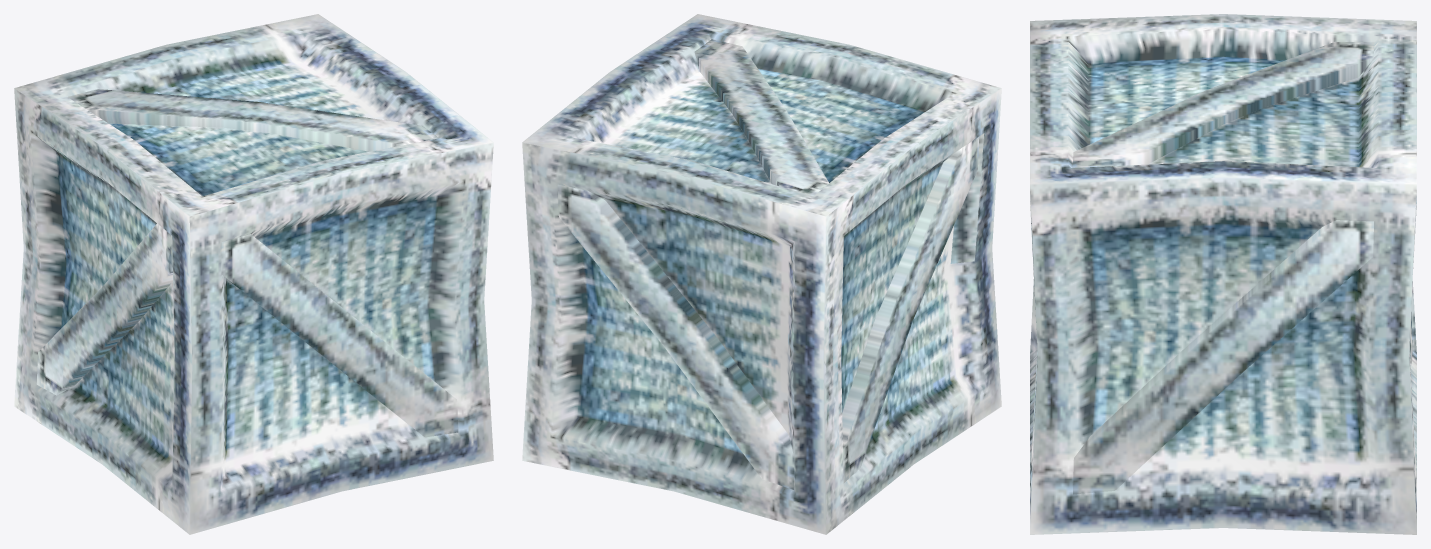
File: a_wbox_1.glb
3 views of the same model, side by side, from view 1: azimuth 30°, elevation 25°; view 2: azimuth 150°, elevation 25°; view 3: azimuth 270°, elevation 25° (orthographic). The views are drawn at different scales.
Visible parts, largest first — view 1: a_wbox_1; view 2: a_wbox_1; view 3: a_wbox_1.
Boxes of the visible parts, <box> form: a_wbox_1: <box>14,14,493,534</box>; a_wbox_1: <box>522,14,1001,534</box>; a_wbox_1: <box>1030,14,1416,534</box>.
Bounding box in the file's own units: 200 × 204 × 200.
1 material, 1 textured.
